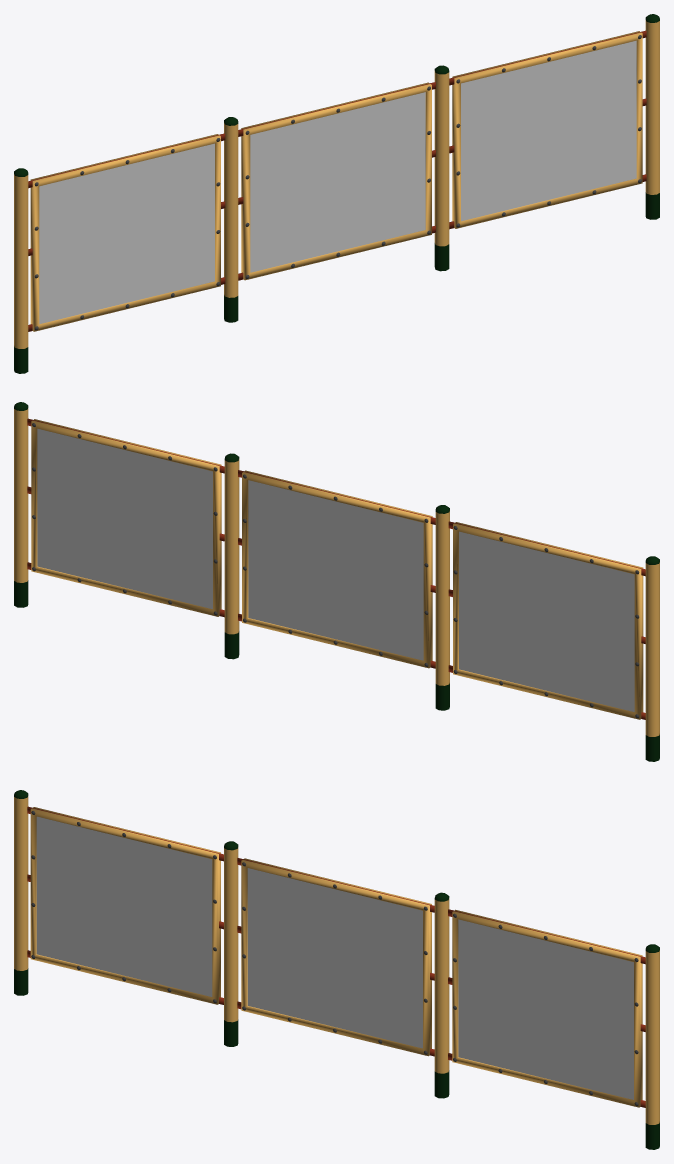
The model's file is Signs.fbx.
The picture shows the model from 3 angles, top to bottom: view 1: azimuth 30°, elevation 25°; view 2: azimuth 150°, elevation 25°; view 3: azimuth 330°, elevation 25°; orthographic projection.
Visible parts, largest first — view 1: Circle.003, Circle.002; view 2: Circle.003, Circle.002; view 3: Circle.003, Circle.002.
Boxes of the visible parts, bbox=[...] form: Circle.003: bbox=[39, 40, 636, 323]; Circle.002: bbox=[14, 14, 659, 373]; Circle.003: bbox=[37, 428, 634, 711]; Circle.002: bbox=[14, 402, 659, 761]; Circle.003: bbox=[36, 816, 633, 1099]; Circle.002: bbox=[14, 790, 659, 1149].
Bounding box in the file's own units: 1235 × 370 × 24.81.
